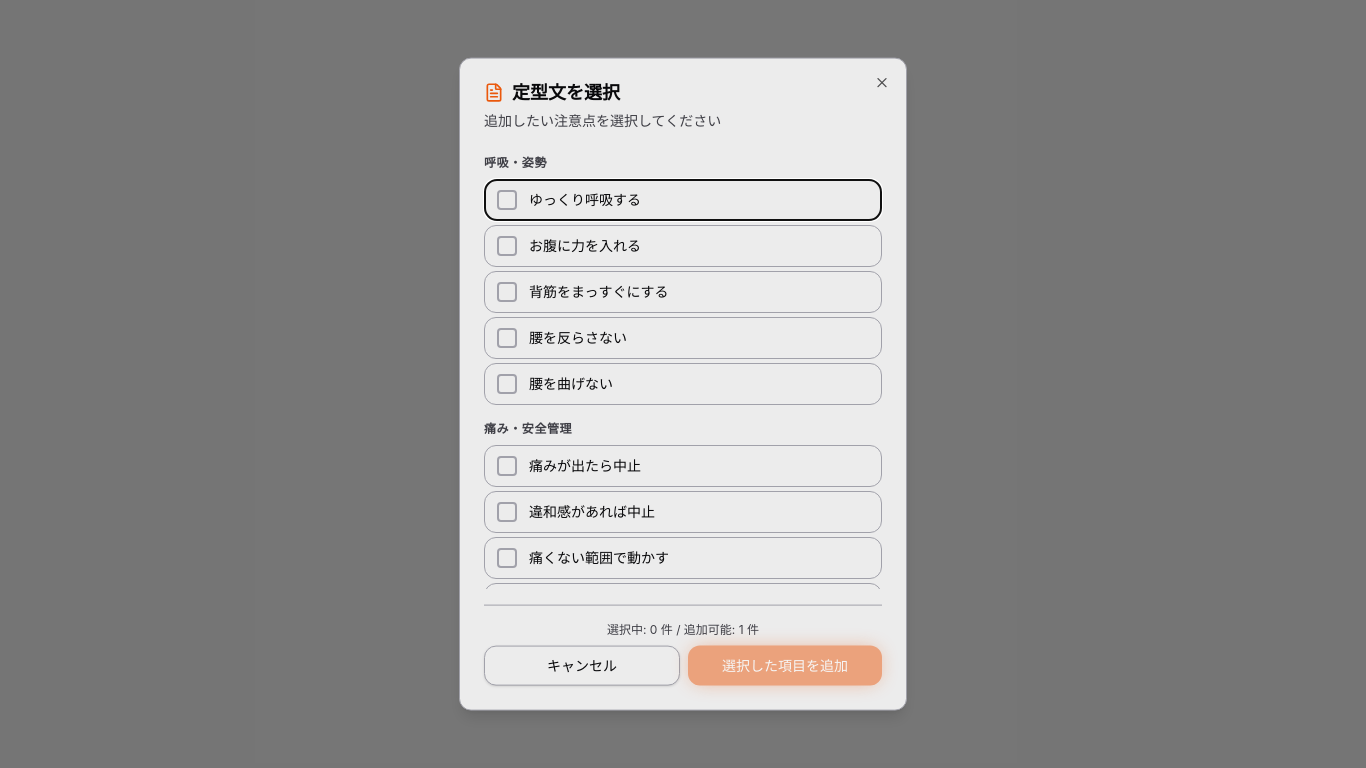
Test: PrecautionSnippetDialog › 選択制限 › 残り件数を超える選択ができない
Click the button "ゆっくり呼吸する" at (585, 199), box [484,179,882,221]
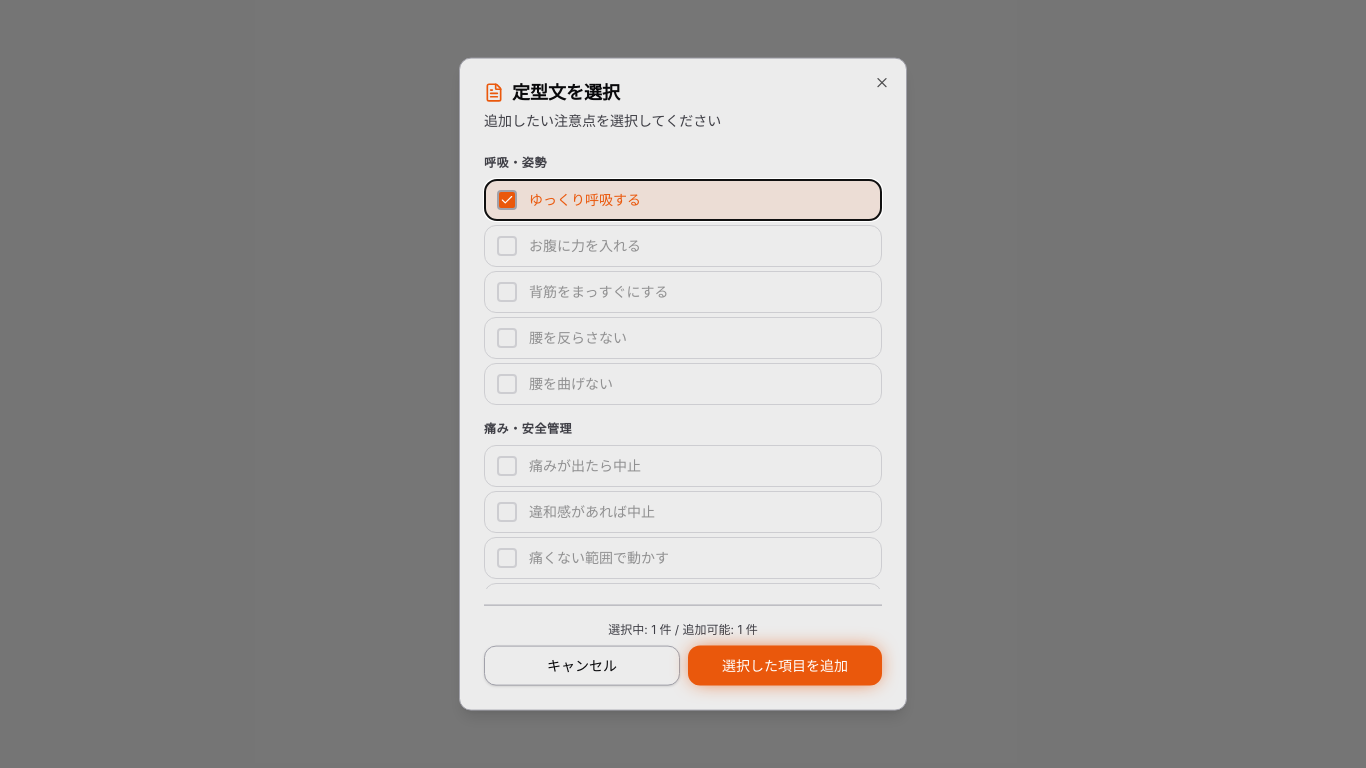
Expected: the text "選択中: 1 件 / 追加可能: 1 件" is shown, [608,621,758,636]
Expected: the button "痛みが出たら中止" is disabled, [484,445,882,487]
